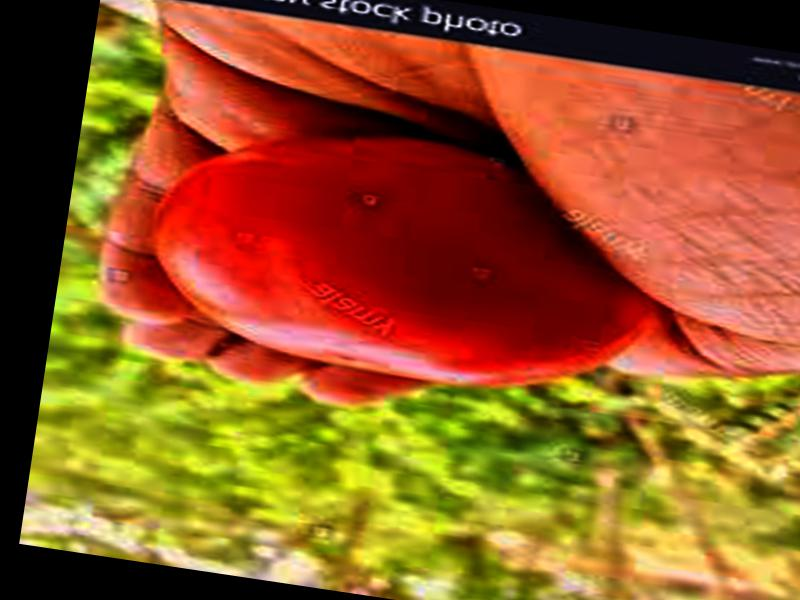Tomato: (141, 104, 663, 407)
